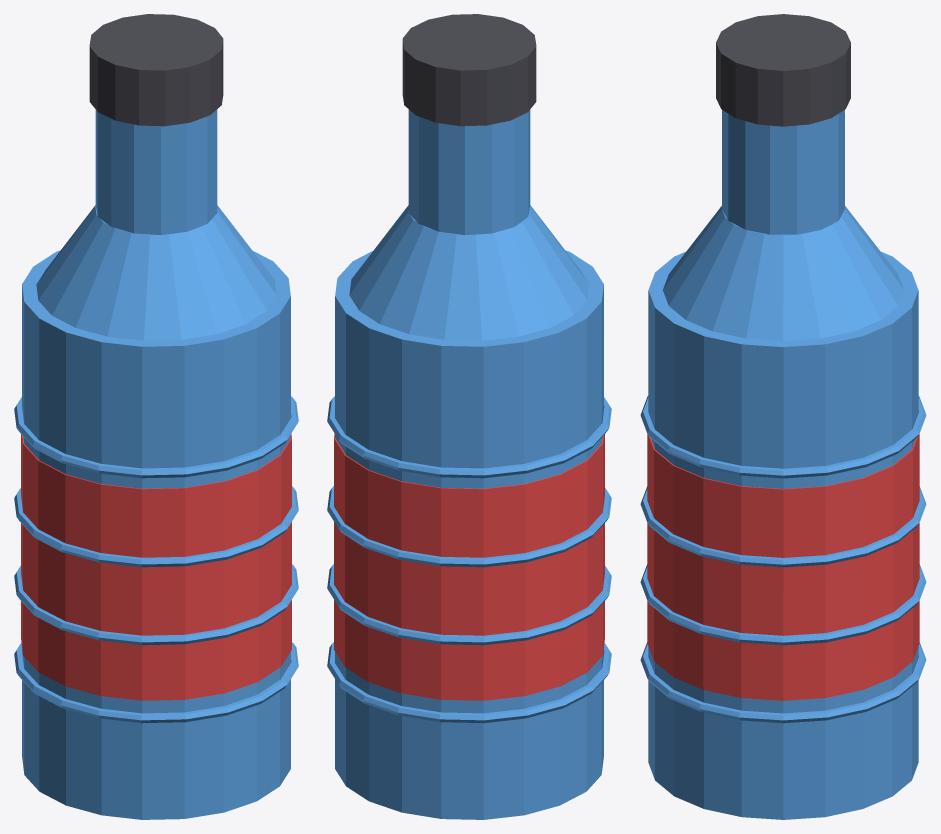
The model's file is soda_bottle.fbx.
The picture shows the model from 3 angles, left to right: view 1: azimuth 30°, elevation 25°; view 2: azimuth 150°, elevation 25°; view 3: azimuth 270°, elevation 25°; orthographic projection.
Parts seen in each view (by area): view 1: SB_Body, SB_Label, SB_Shoulder, SB_Cap, SB_Neck, SB_Rib.003, SB_Rib, SB_Rib.001, SB_Rib.002; view 2: SB_Body, SB_Label, SB_Shoulder, SB_Cap, SB_Neck, SB_Rib.003, SB_Rib, SB_Rib.001, SB_Rib.002; view 3: SB_Body, SB_Label, SB_Shoulder, SB_Cap, SB_Neck, SB_Rib.003, SB_Rib, SB_Rib.002, SB_Rib.001.
Boxes of the visible parts, left/top/right/bottom form: SB_Body: left=22, top=250, right=290, bottom=819; SB_Label: left=21, top=433, right=291, bottom=700; SB_Shoulder: left=36, top=205, right=276, bottom=340; SB_Cap: left=89, top=14, right=223, bottom=126; SB_Neck: left=95, top=109, right=217, bottom=234; SB_Rib.003: left=14, top=396, right=298, bottom=478; SB_Rib: left=14, top=642, right=298, bottom=723; SB_Rib.001: left=14, top=564, right=298, bottom=645; SB_Rib.002: left=14, top=486, right=298, bottom=567; SB_Body: left=335, top=250, right=603, bottom=819; SB_Label: left=334, top=433, right=604, bottom=700; SB_Shoulder: left=349, top=205, right=589, bottom=340; SB_Cap: left=402, top=14, right=536, bottom=126; SB_Neck: left=408, top=109, right=530, bottom=234; SB_Rib.003: left=327, top=396, right=611, bottom=478; SB_Rib: left=327, top=642, right=611, bottom=723; SB_Rib.001: left=327, top=564, right=611, bottom=645; SB_Rib.002: left=327, top=486, right=611, bottom=567; SB_Body: left=648, top=251, right=918, bottom=819; SB_Label: left=647, top=434, right=919, bottom=700; SB_Shoulder: left=663, top=206, right=903, bottom=340; SB_Cap: left=716, top=14, right=850, bottom=126; SB_Neck: left=722, top=110, right=844, bottom=234; SB_Rib.003: left=640, top=396, right=926, bottom=478; SB_Rib: left=640, top=642, right=926, bottom=723; SB_Rib.002: left=640, top=486, right=926, bottom=567; SB_Rib.001: left=640, top=564, right=926, bottom=645.
Size of the model in its own units: 0.466 by 1.3 by 0.466.
